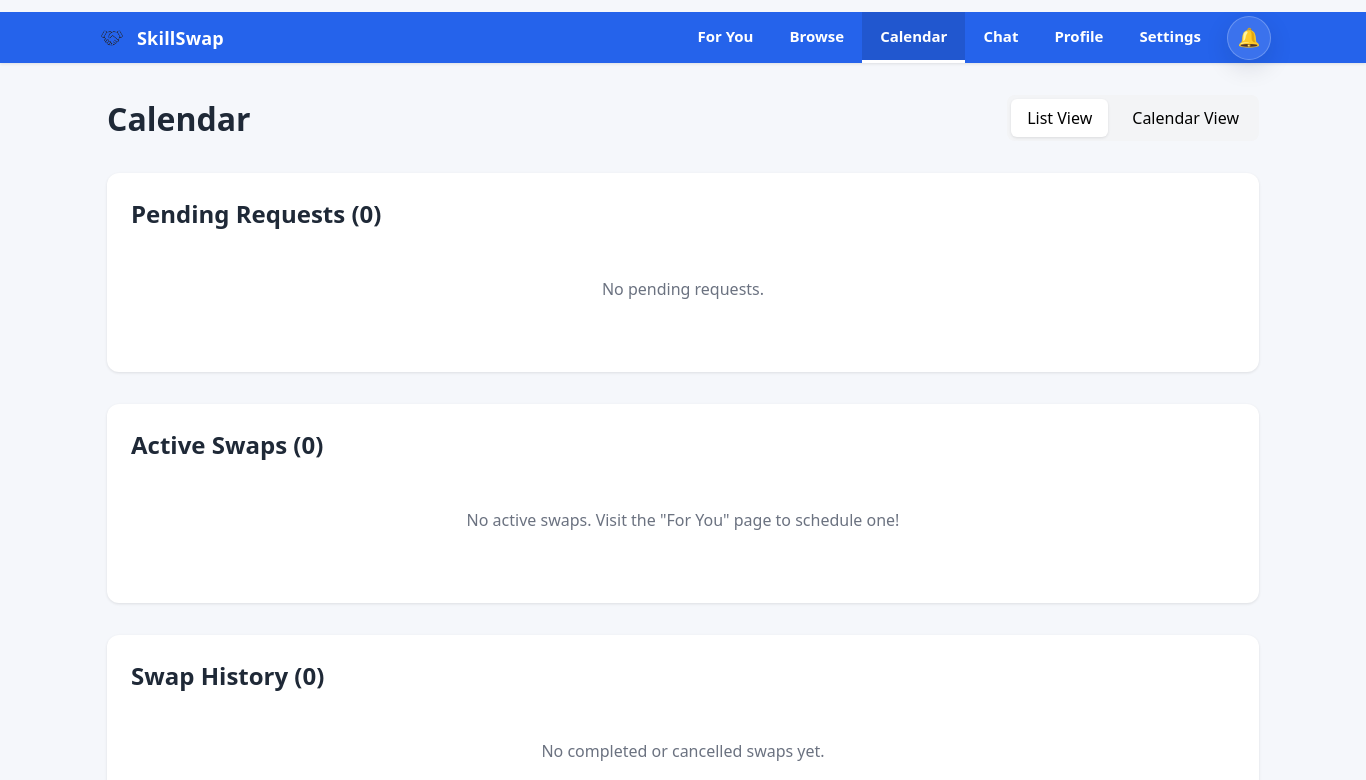
SkillSwap behavior tests › loads calendar and switches view
This screenshot has width=1366, height=780.
Click the button "Calendar View" at (1186, 118), box [1116,99,1255,137]
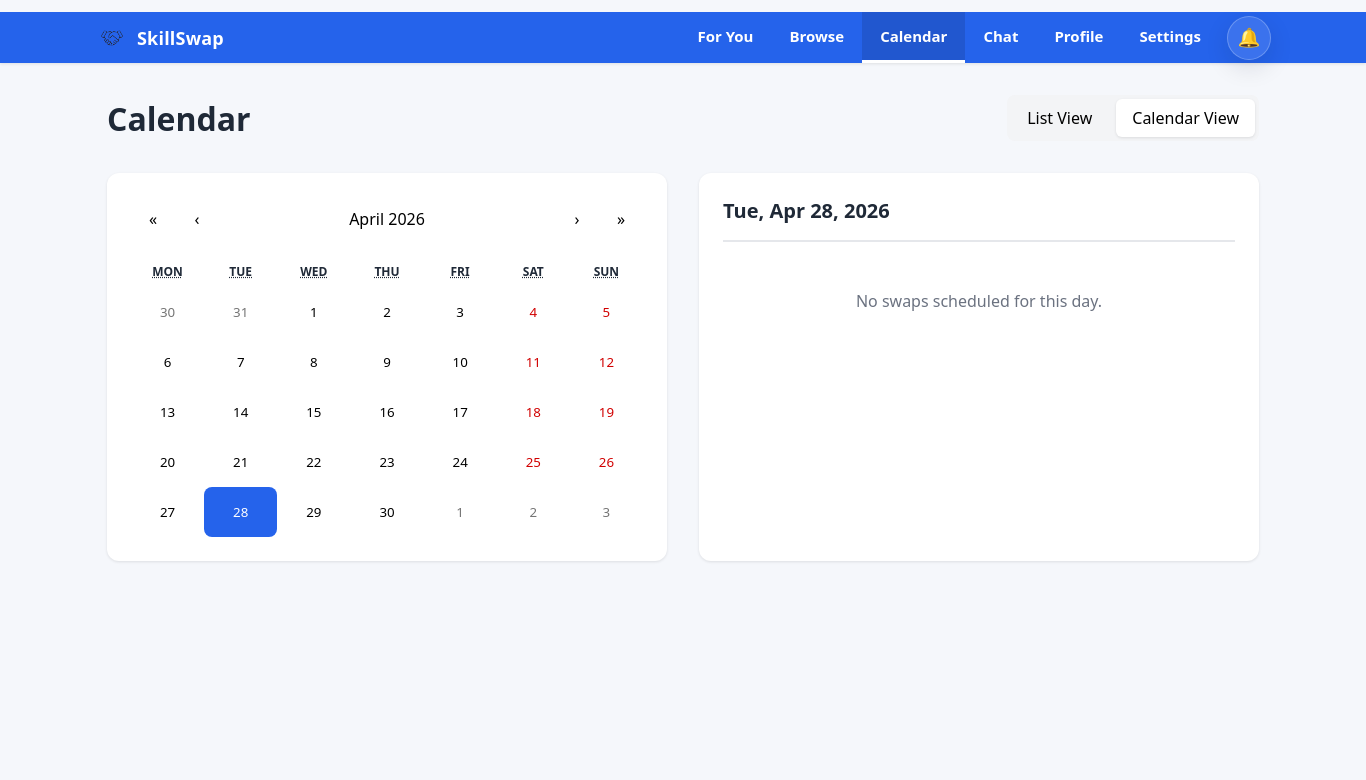
Result: the element with class "react-calendar" is shown at [131,197,643,537]
